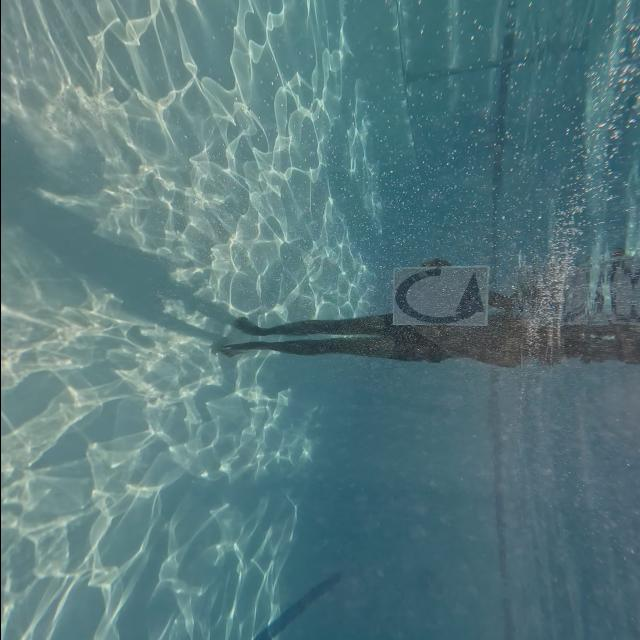blue_side: (385, 258, 505, 329)
